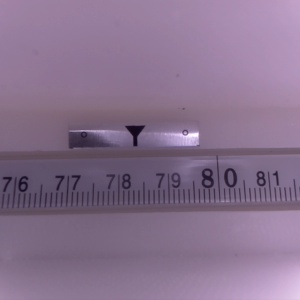0: (223, 168, 237, 188)
1: (273, 171, 280, 187)
6: (17, 175, 28, 192)
7: (0, 176, 12, 192), (54, 175, 65, 191), (70, 175, 81, 191), (105, 174, 115, 189), (155, 173, 164, 188)
8: (200, 169, 214, 188), (255, 170, 266, 187), (121, 173, 131, 189)
9: (170, 173, 180, 188)
finger: (123, 125, 145, 148)
